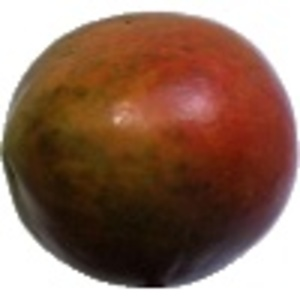manga: (1, 10, 300, 288)
